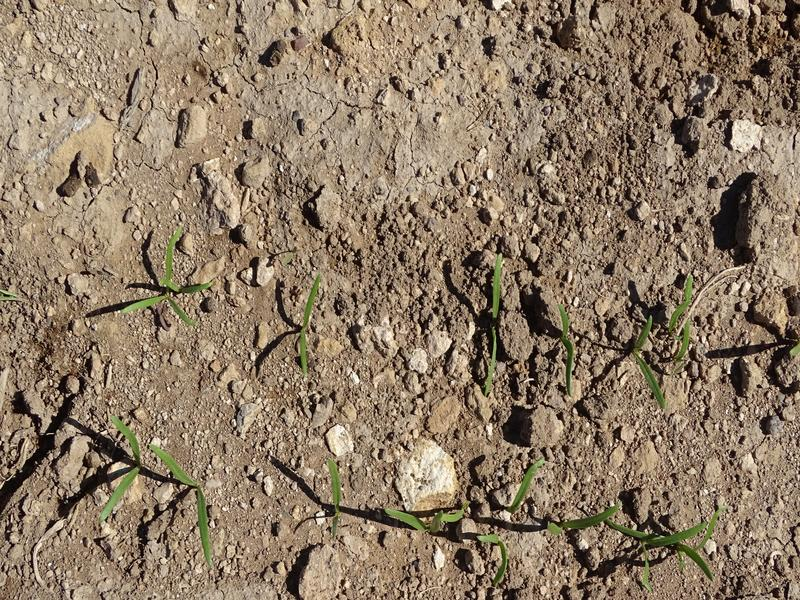Espinaca: (92, 413, 224, 565), (556, 504, 725, 580), (628, 273, 696, 399), (128, 233, 214, 327), (482, 258, 504, 395), (374, 502, 462, 534), (295, 266, 319, 375), (554, 297, 581, 391), (322, 458, 354, 525), (499, 467, 545, 508), (475, 532, 511, 579)
